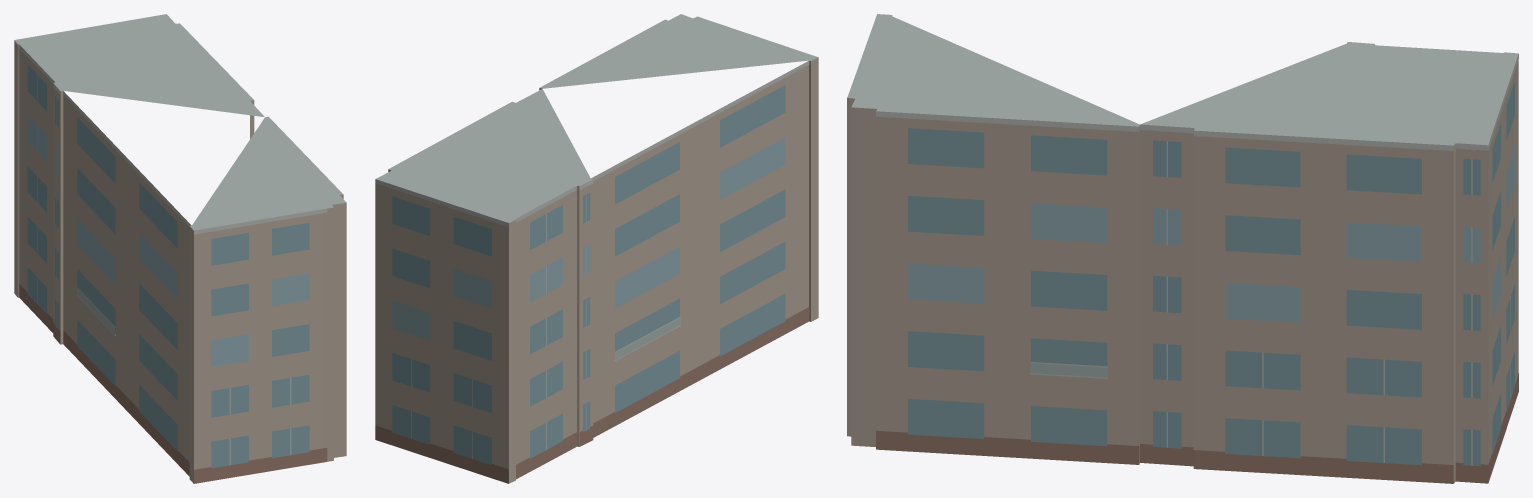
Rendered from survey-upis-32494320.glb.
The picture shows the model from 3 angles, left to right: view 1: azimuth 30°, elevation 25°; view 2: azimuth 150°, elevation 25°; view 3: azimuth 270°, elevation 25°; orthographic projection. The views are drawn at different scales.
Parts seen in each view (by area): view 1: survey-upis-32494320.tmp; view 2: survey-upis-32494320.tmp; view 3: survey-upis-32494320.tmp.
Boxes of the visible parts, left/top/right/bottom form: survey-upis-32494320.tmp: left=14, top=14, right=346, bottom=483; survey-upis-32494320.tmp: left=375, top=14, right=818, bottom=483; survey-upis-32494320.tmp: left=847, top=14, right=1518, bottom=483.
Bounding box in the file's own units: 12.73 × 15.25 × 27.45.
